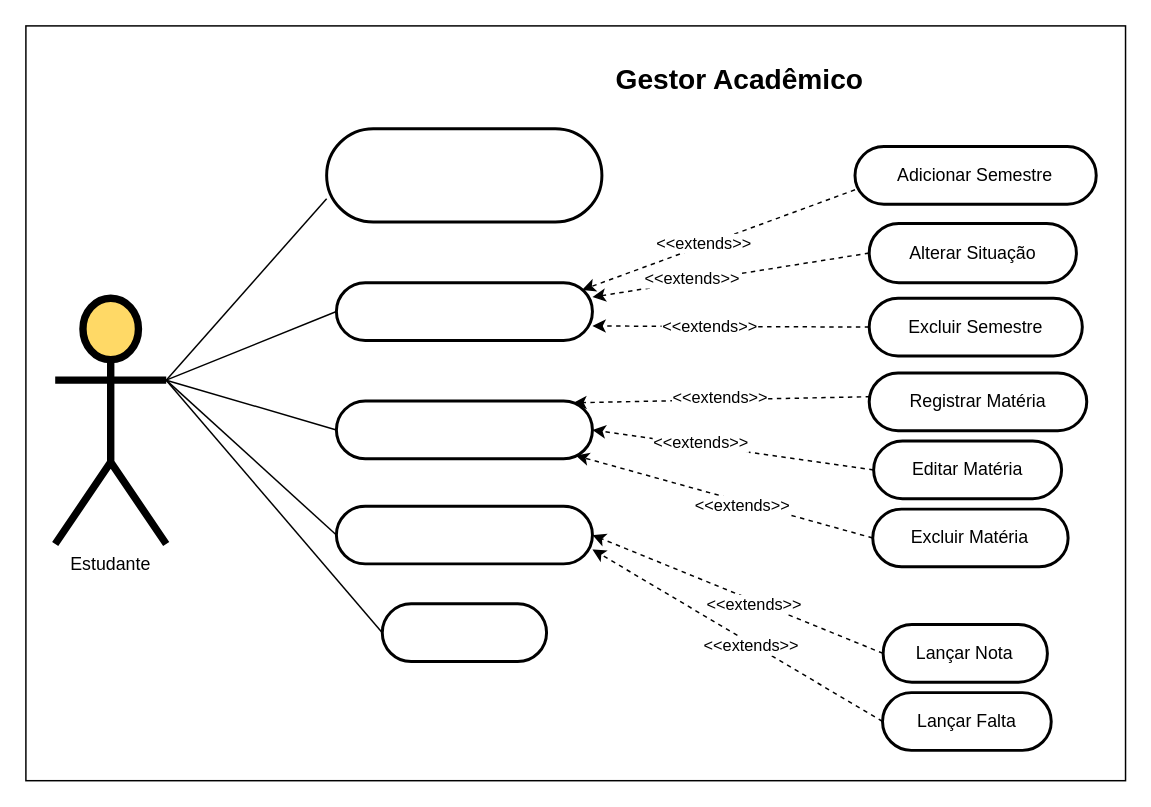
The diagram is 1151 pixels wide and 807 high, and some of its shapes have lost their labels. The centre of each missing label's shape, as x and y in pixels:
"Calcular IRA" goes at point 463,632.
"Configurar Usuário" goes at point 463,175.
"Gerenciar Desempenho" goes at point 463,534.
"Gerenciar Matérias" goes at point 463,429.
"Gerenciar Semestres" goes at point 463,310.
